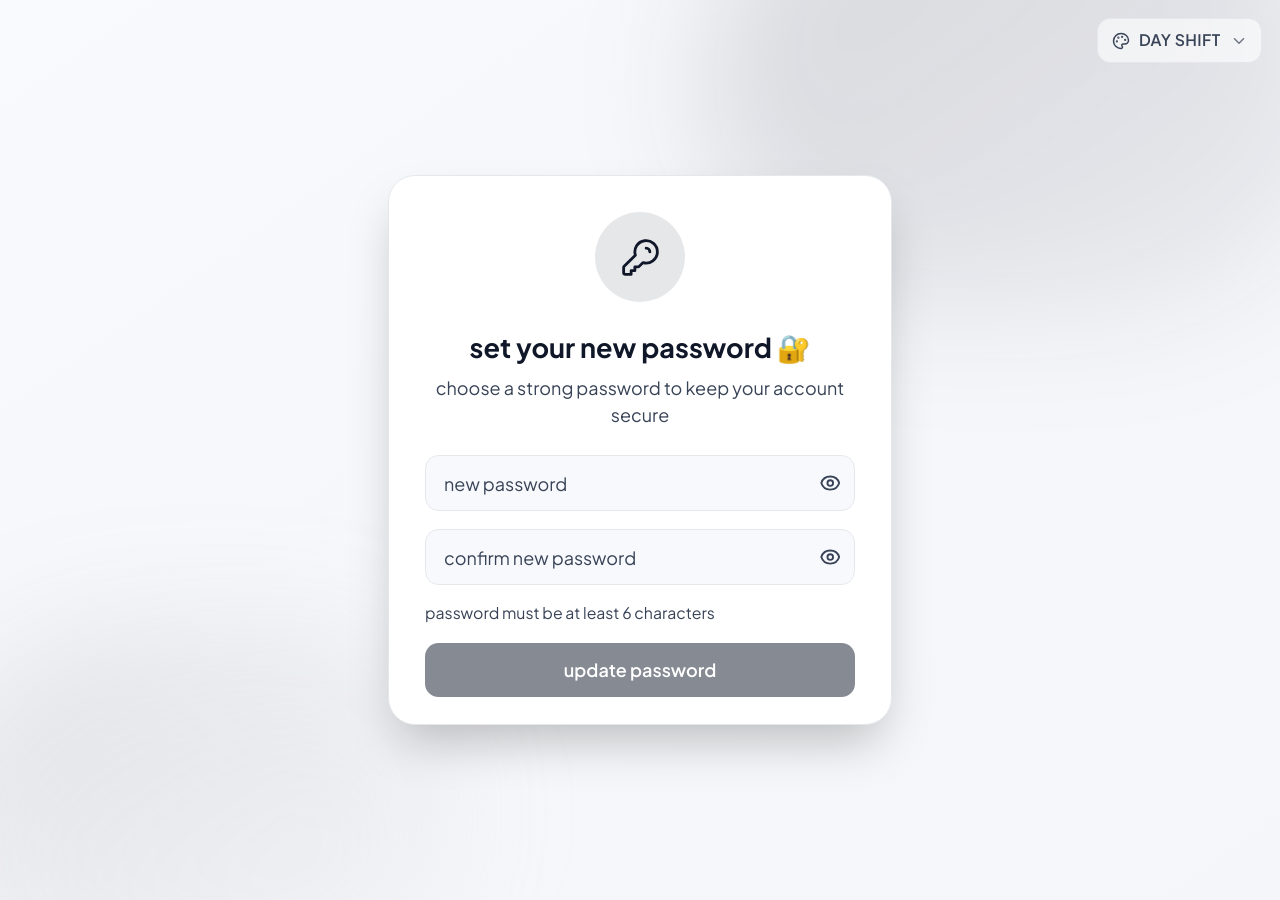
ResetPasswordPage › updates password and redirects after success
Type "password123" into the password field with placeholder "new password" at point(640, 483), box [425, 455, 855, 511]
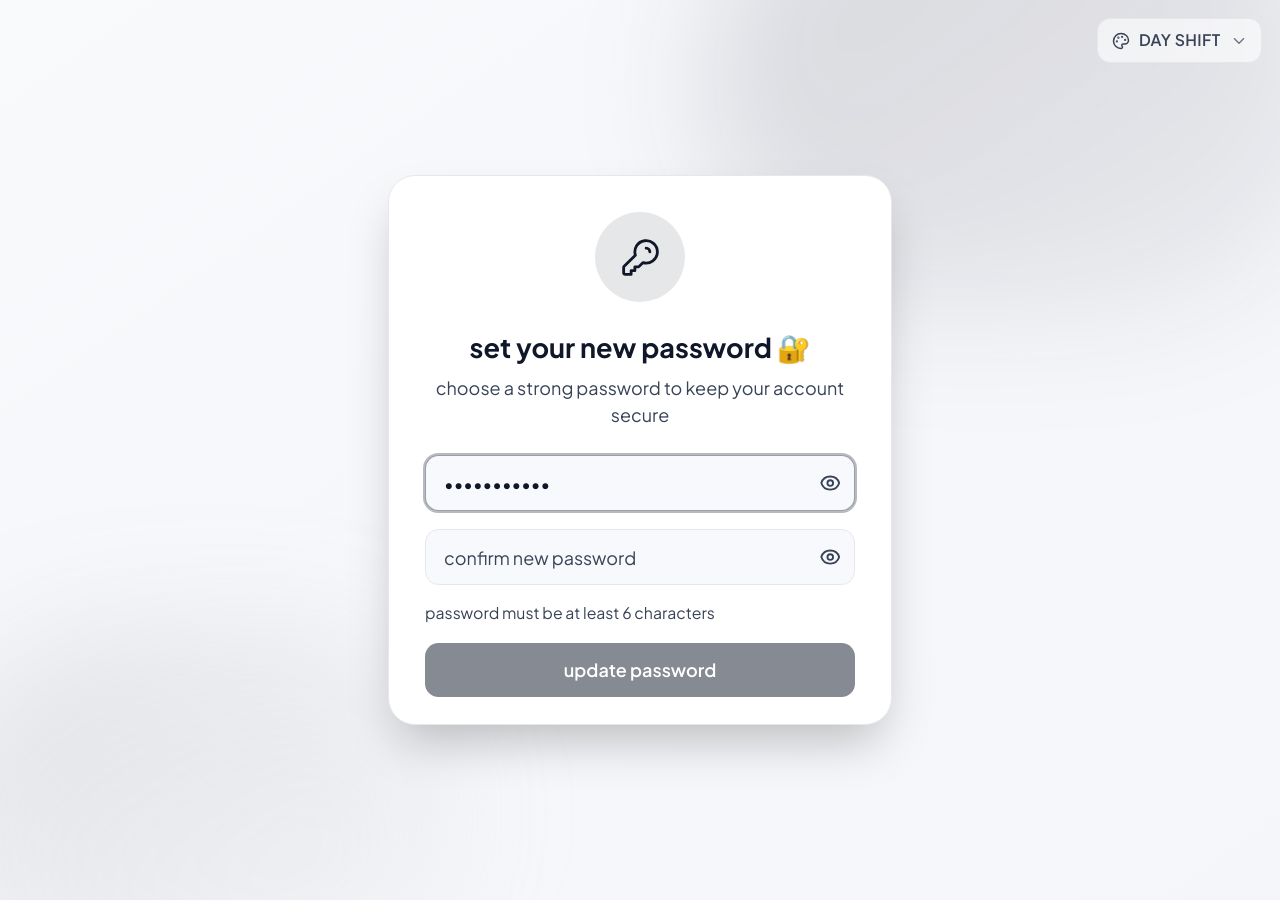
Type "password123" into the password field with placeholder "confirm new password" at point(640, 557), box [425, 529, 855, 585]
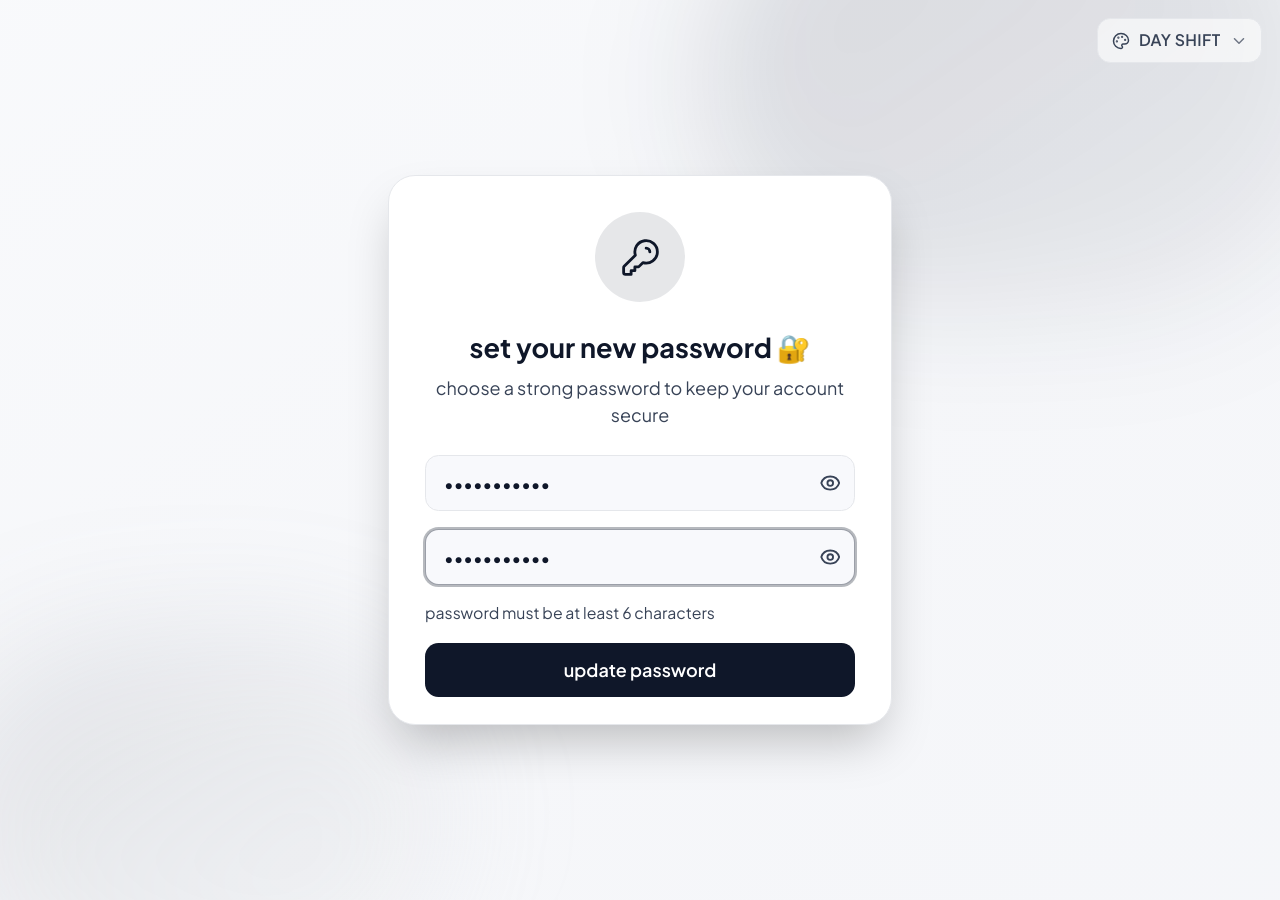
Click the button "update password" at point(640, 670), box [425, 643, 855, 697]
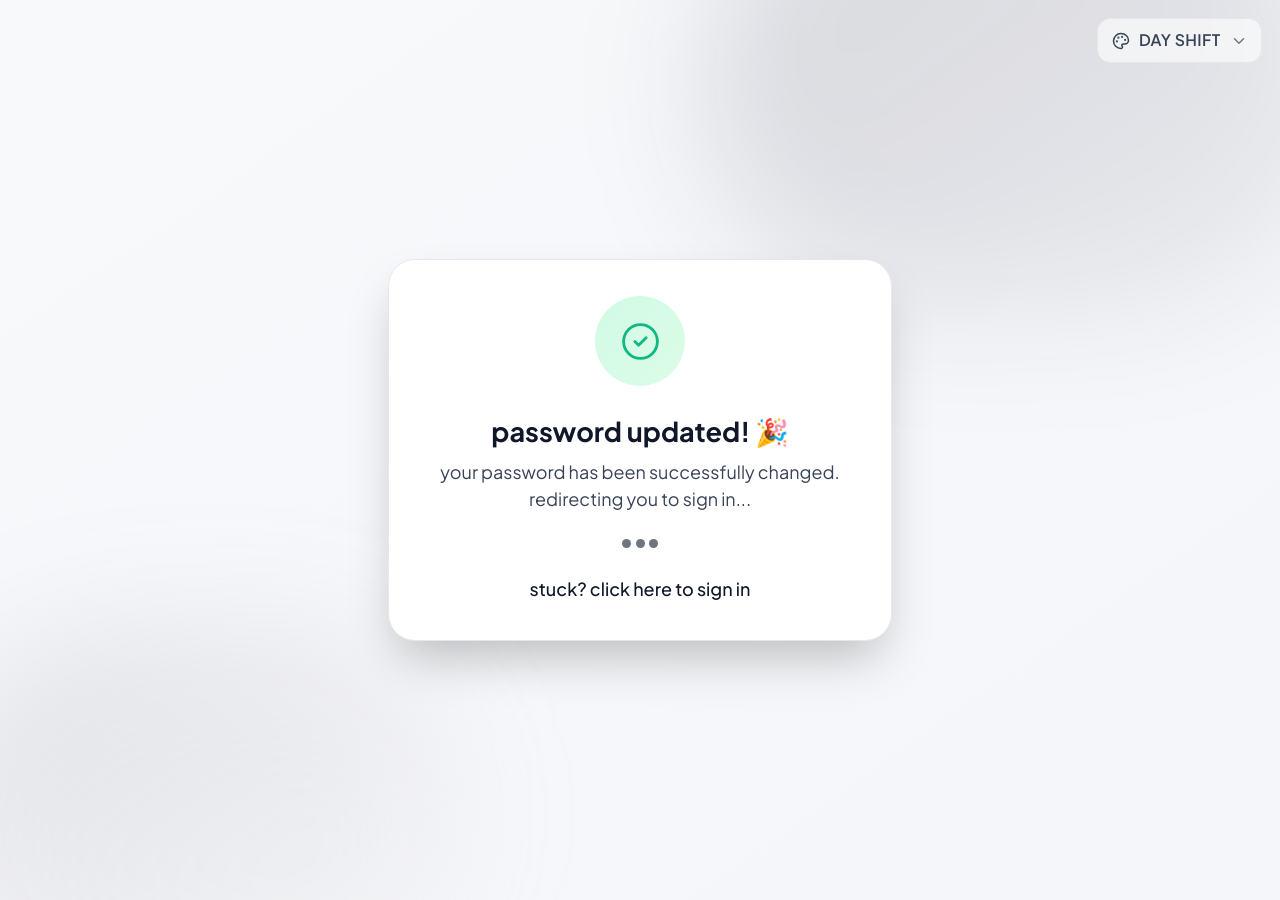
expect the heading "password updated! 🎉" is shown: met, box [491, 414, 789, 448]
